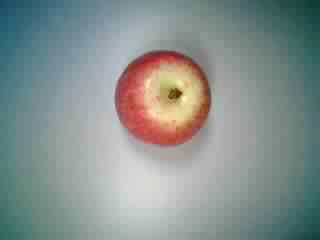apple: (108, 43, 212, 147)
